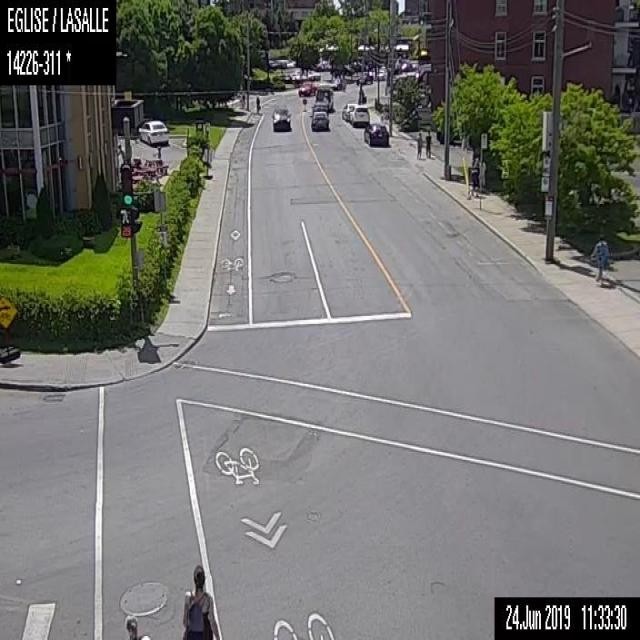cyclist: (255, 96, 260, 112)
pedestrian: (178, 564, 221, 639), (588, 232, 611, 284), (124, 613, 152, 639), (468, 157, 478, 199), (478, 156, 486, 196), (414, 130, 424, 160), (425, 128, 432, 160)
vehicle: (136, 117, 169, 147), (362, 120, 390, 145), (270, 104, 292, 133), (312, 87, 334, 112), (348, 104, 370, 128), (310, 110, 330, 132), (297, 80, 316, 96), (340, 102, 354, 120), (330, 77, 346, 90), (356, 72, 372, 84)
